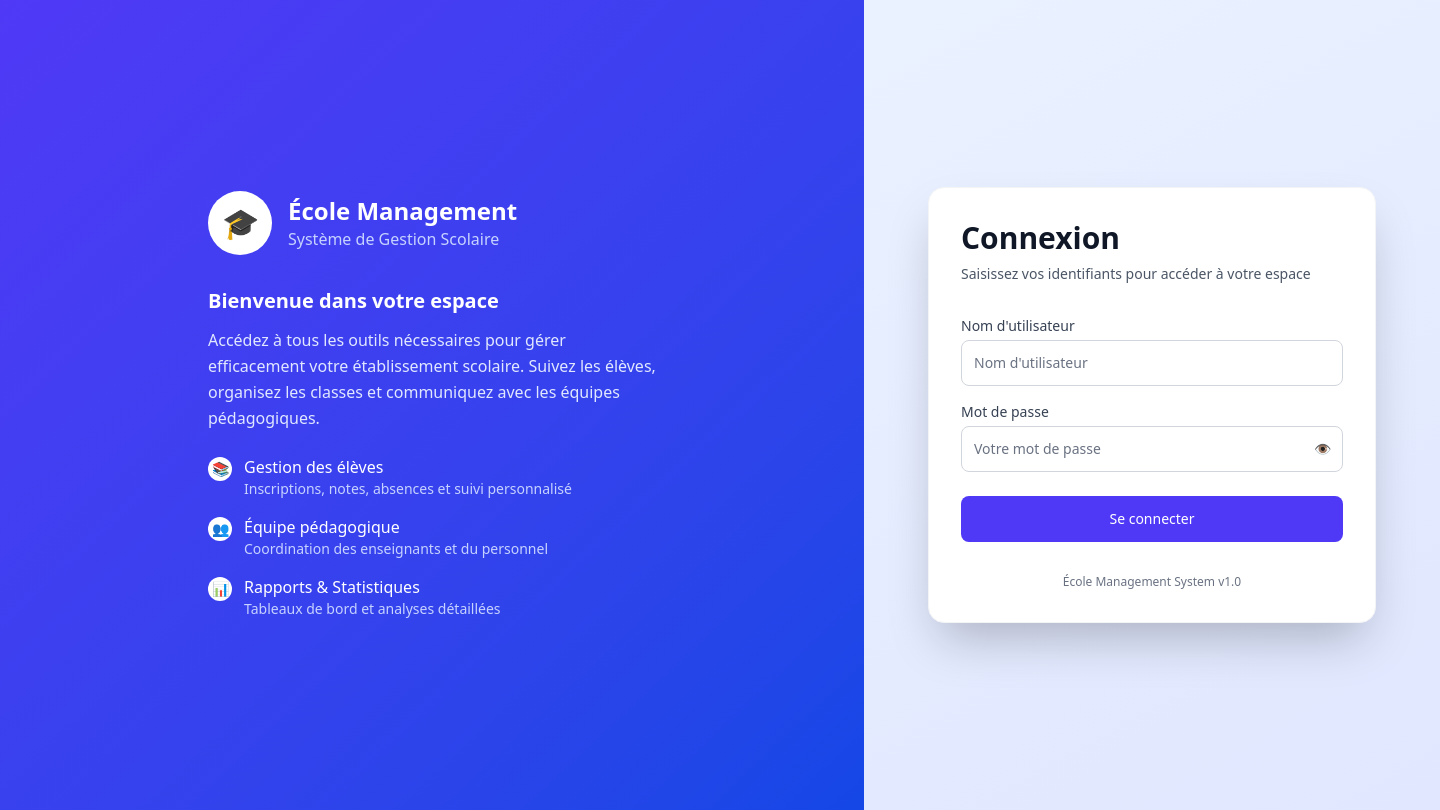
LoginForm › devrait afficher les erreurs de validation
The image size is (1440, 810).
Click the button "Se connecter".
click(1152, 519)  # box left=961, top=496, right=1343, bottom=542
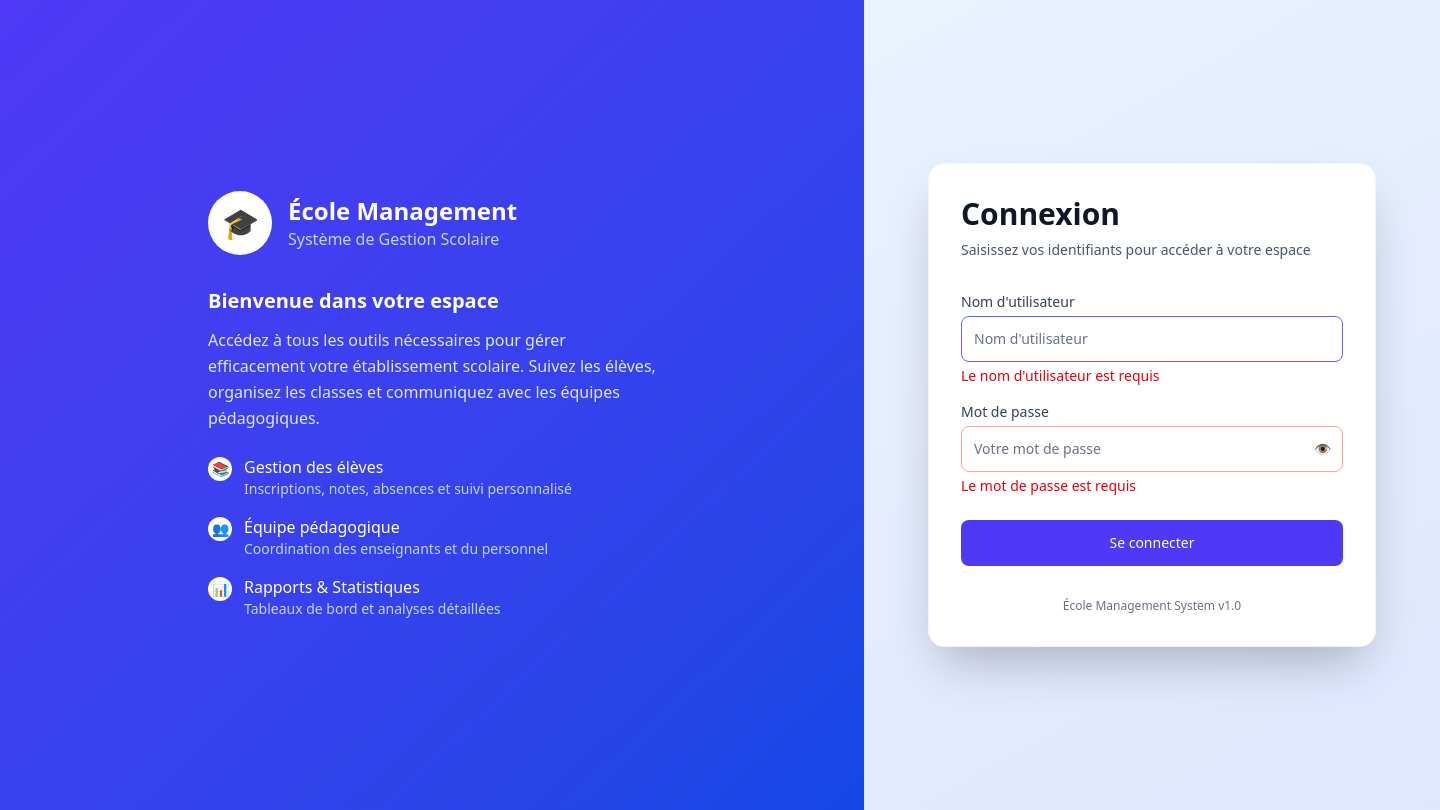
Now the text "Le nom d'utilisateur est requis" is shown, box left=961, top=366, right=1160, bottom=385
Now the text "Le mot de passe est requis" is shown, box left=961, top=476, right=1136, bottom=495
